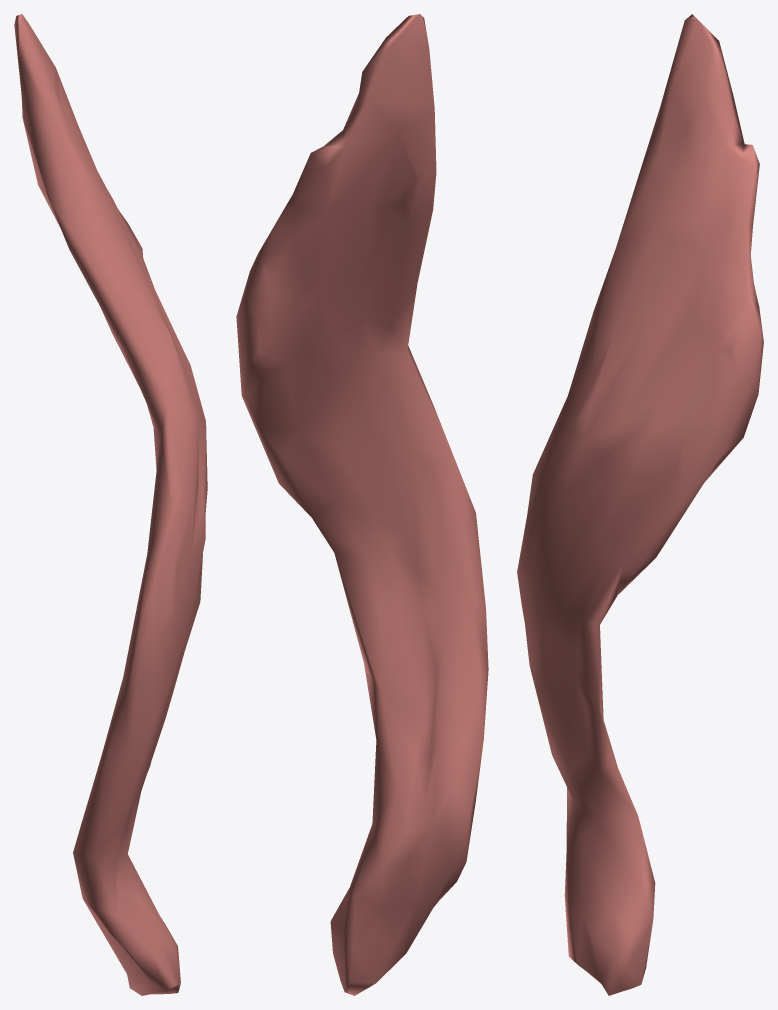
File: fma46804_mm1091.glb
3 views of the same model, side by side, from view 1: azimuth 30°, elevation 25°; view 2: azimuth 150°, elevation 25°; view 3: azimuth 270°, elevation 25° (orthographic). The views are drawn at different scales.
Visible parts, largest first — view 1: FMA46804_MM1091; view 2: FMA46804_MM1091; view 3: FMA46804_MM1091.
Part boxes in pixels (x1,y1,x2,y2): FMA46804_MM1091: (14, 14, 207, 995); FMA46804_MM1091: (236, 14, 488, 995); FMA46804_MM1091: (517, 14, 763, 995).
Bounding box in the file's own units: 0.00532 × 0.0299 × 0.00718.
